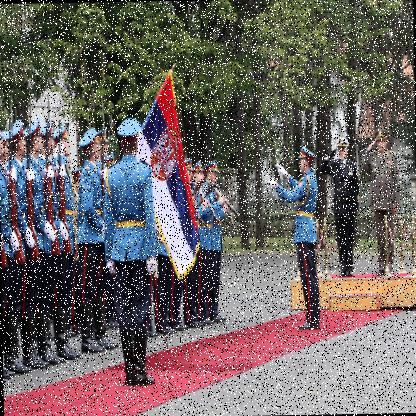rs: (134, 73, 202, 281)
